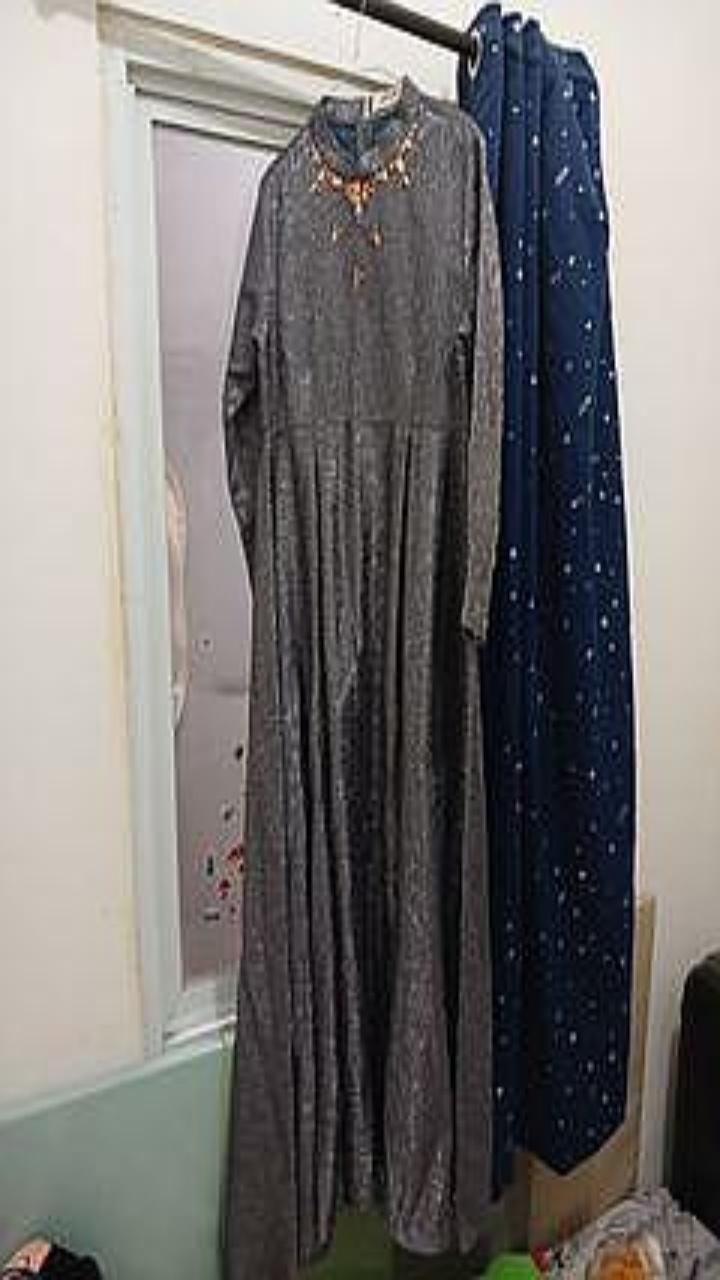Dresses: (224, 77, 502, 1279), (459, 3, 634, 1188)
